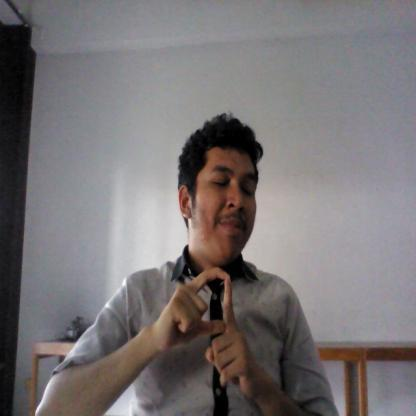D: (151, 262, 258, 398)
